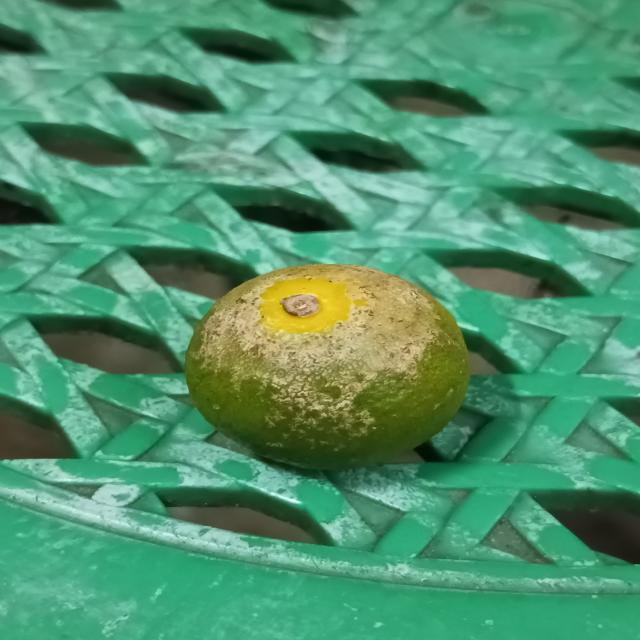thrips: (184, 256, 476, 477)
